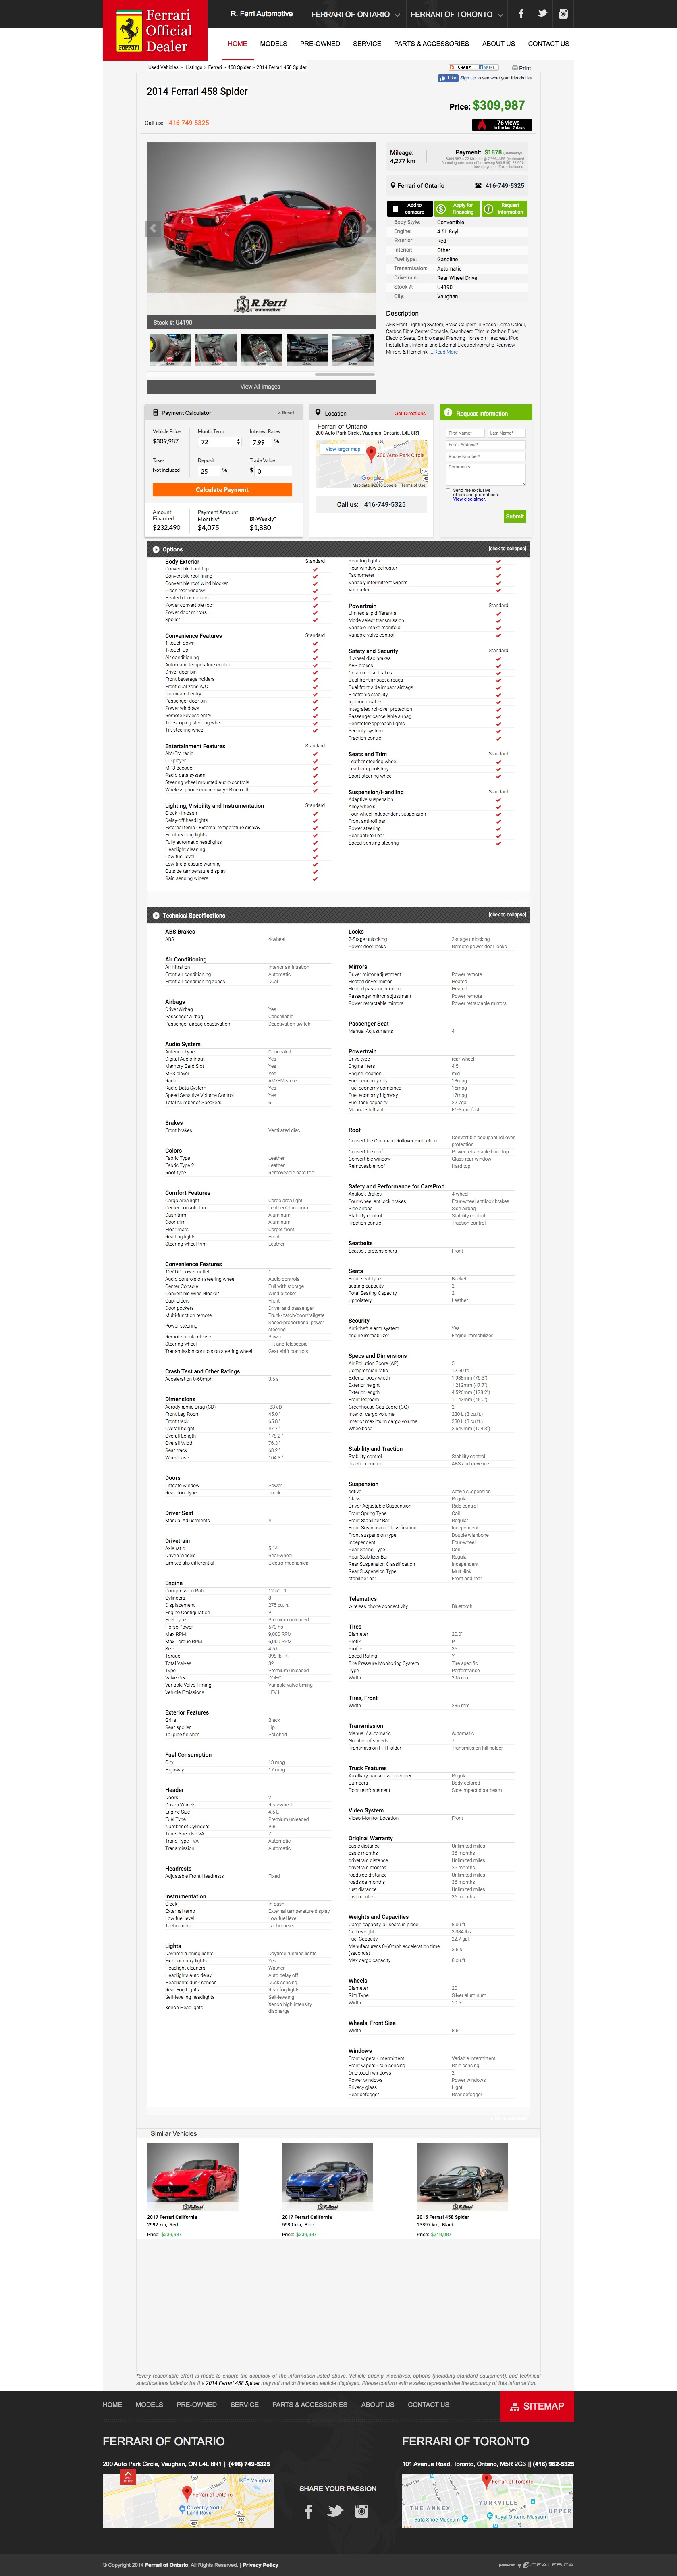car: (360, 220, 378, 238)
